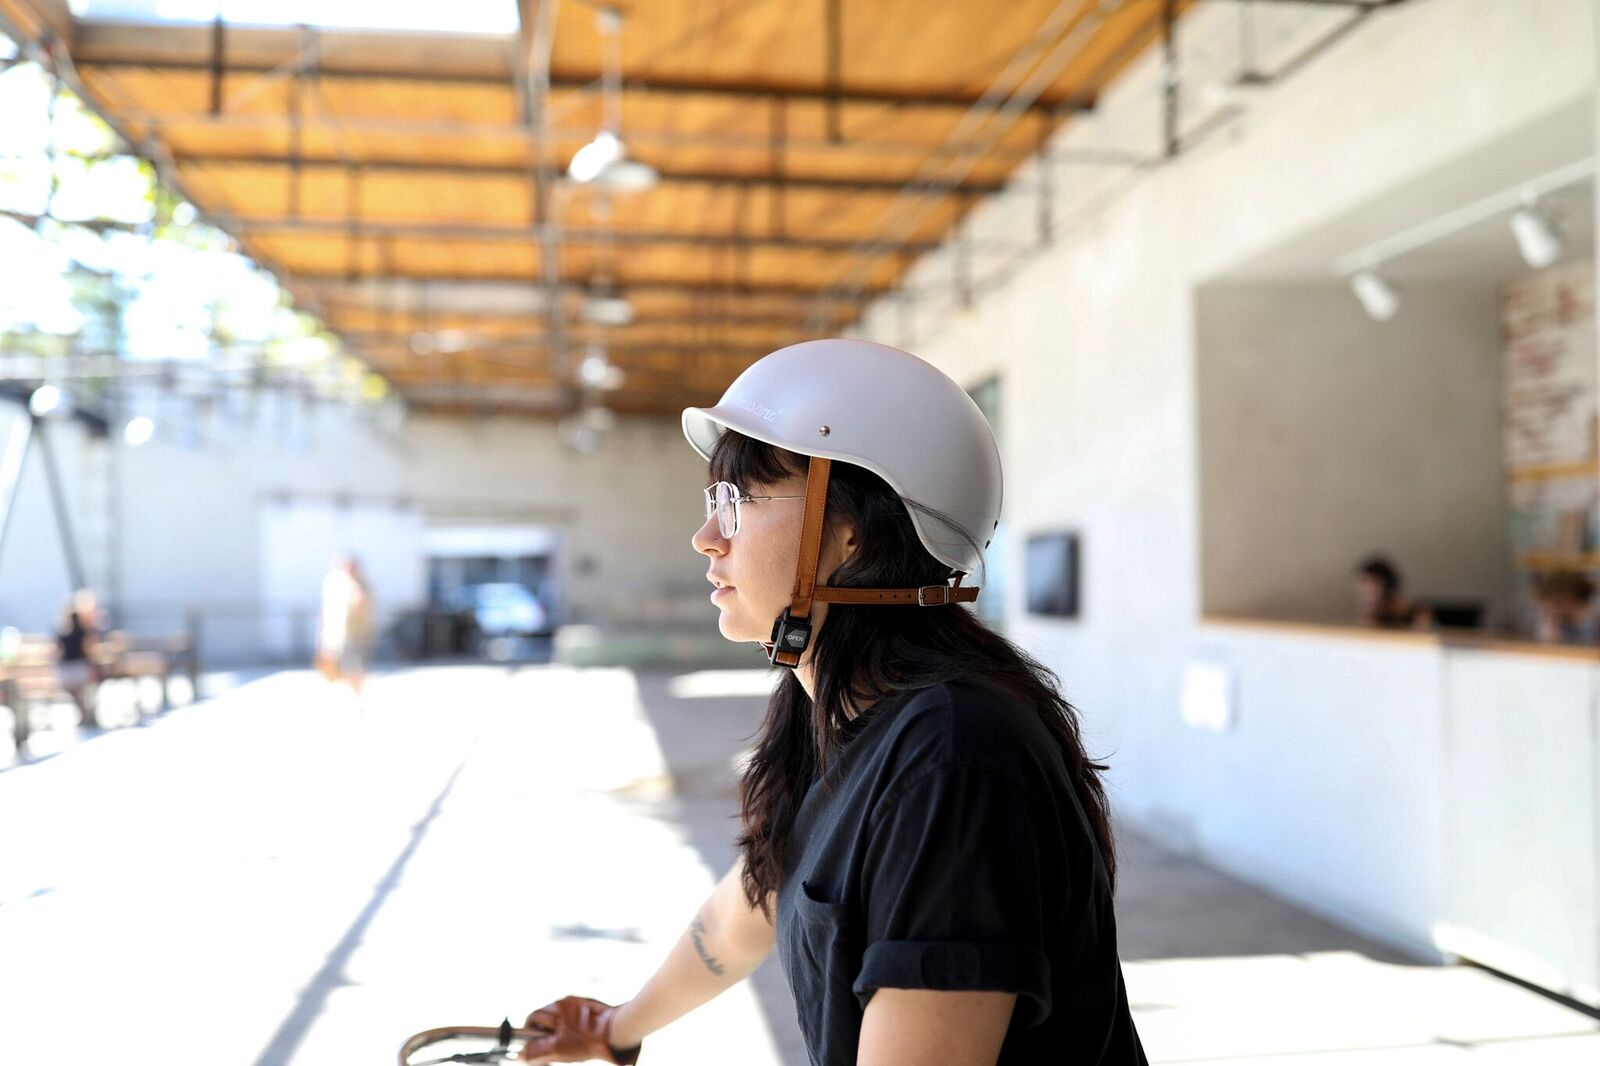helmet: (680, 338, 1003, 667)
